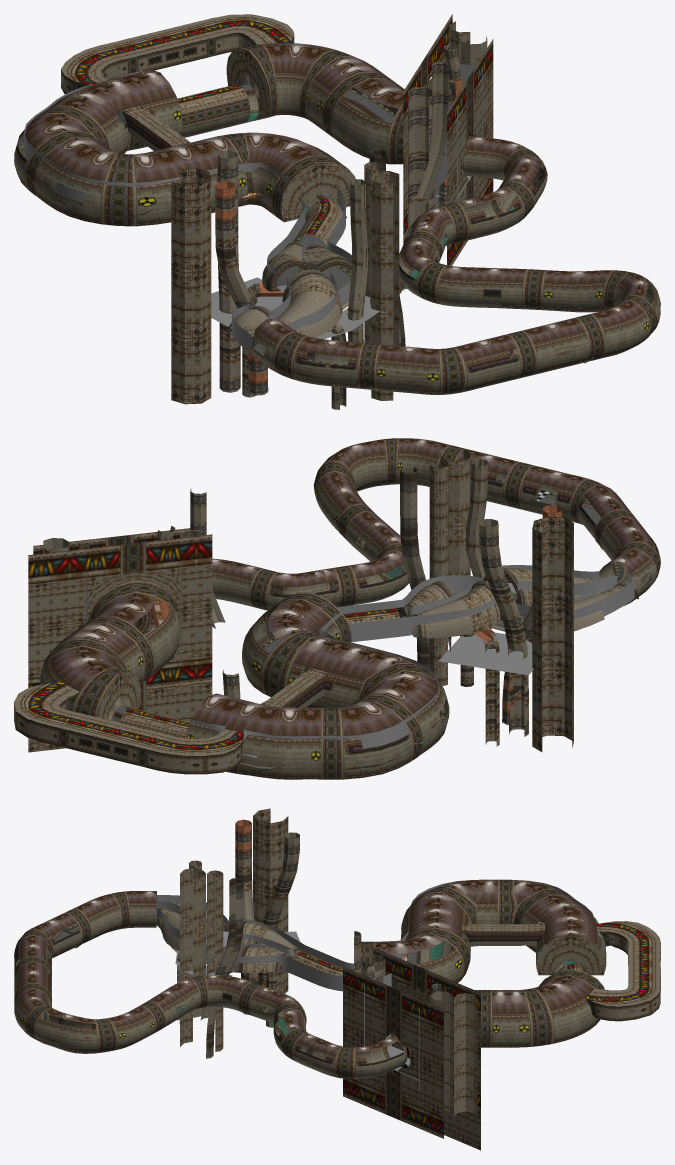
Rendered from SewerScene.fbx.
3 views of the same model, one above another, from view 1: azimuth 30°, elevation 25°; view 2: azimuth 150°, elevation 25°; view 3: azimuth 270°, elevation 25° (orthographic). The views are drawn at different scales.
Parts seen in each view (by area): view 1: visible, invisible; view 2: visible, invisible; view 3: visible, invisible.
Boxes of the visible parts, x1,y1,x2,y2 form: visible: (14,14,660,409); invisible: (23,61,482,350); visible: (14,438,660,779); invisible: (86,561,634,757); visible: (14,808,660,1150); invisible: (156,879,602,1091).
Size of the model in its own units: 7310 by 3776 by 11905.
Materials: 89 (89 with a texture image).
